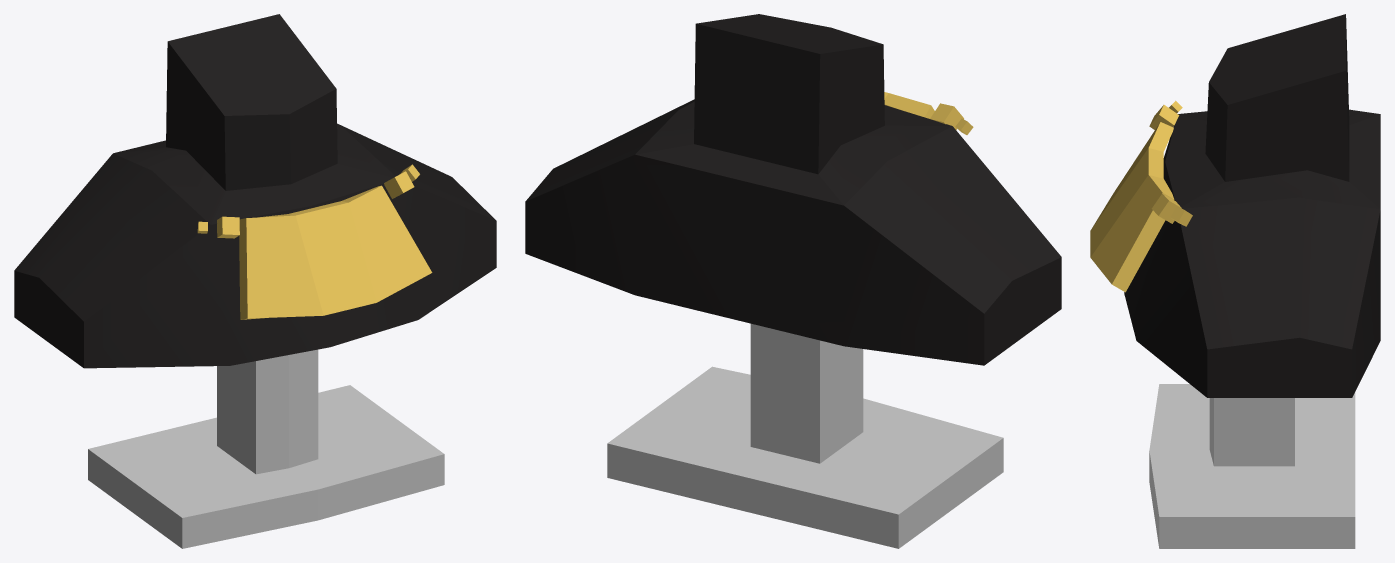
File: egy_mannequin2.fbx
3 views of the same model, side by side, from view 1: azimuth 30°, elevation 25°; view 2: azimuth 150°, elevation 25°; view 3: azimuth 270°, elevation 25° (orthographic). The views are drawn at different scales.
Parts seen in each view (by area): view 1: mannequin, necklace1; view 2: mannequin, necklace1; view 3: mannequin, necklace1.
Part boxes in pixels (<box>): mannequin: <box>14,14,496,548</box>; necklace1: <box>197,164,432,319</box>; mannequin: <box>525,14,1061,548</box>; necklace1: <box>884,92,973,134</box>; mannequin: <box>1124,14,1380,548</box>; necklace1: <box>1090,101,1192,292</box>.
Bounding box in the file's own units: 1.29 × 1.26 × 0.7553.
